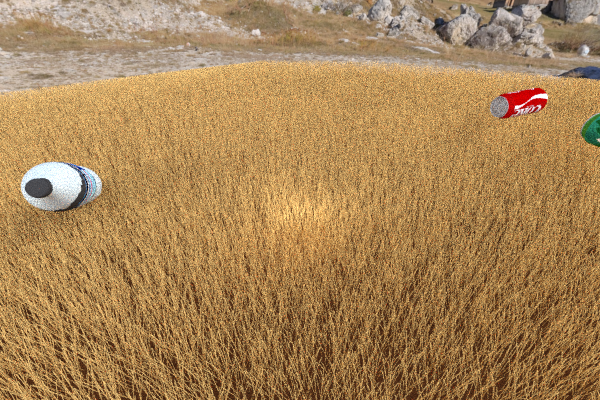bottle: (20, 161, 101, 211)
can: (490, 87, 547, 118), (580, 111, 600, 165)
